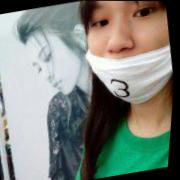NONE: (26, 38, 82, 103)
WRONG: (74, 1, 180, 114)
